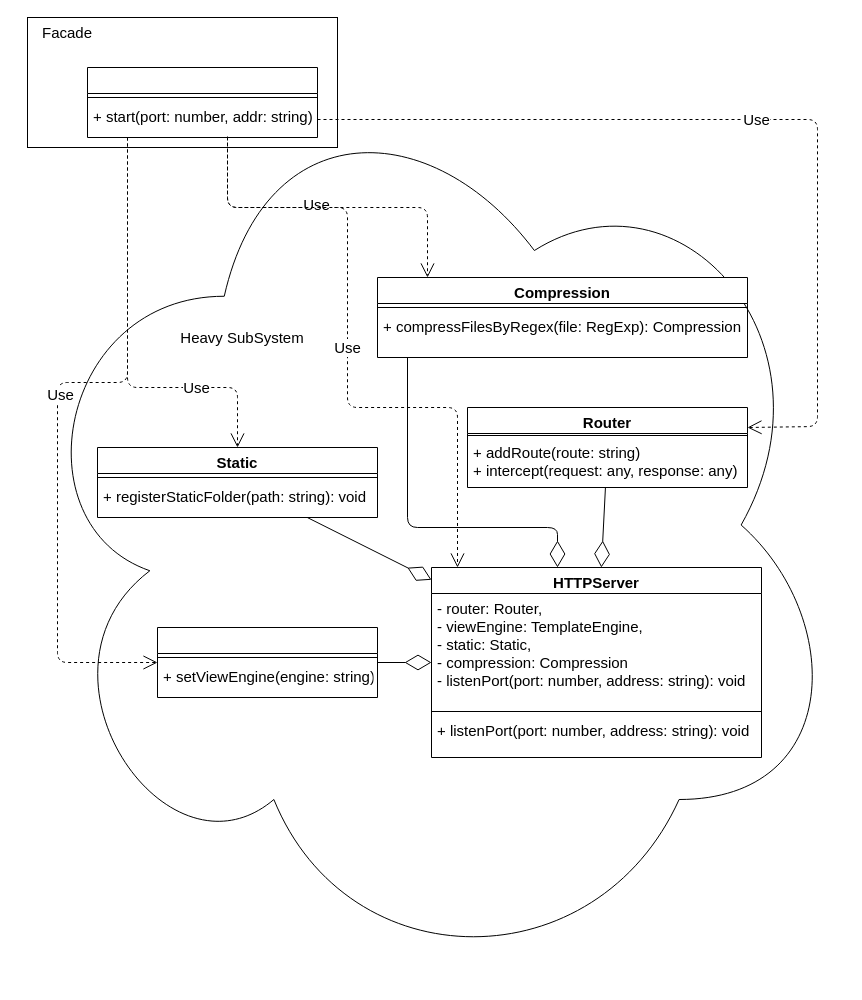
Image size: 862x1000. Some labels were removed from this diagram. The box of each missing label's shape, as (x1, y1, x2, y2) in pixels:
Server: (86, 66, 318, 138)
TemplateEngine: (156, 626, 378, 698)
